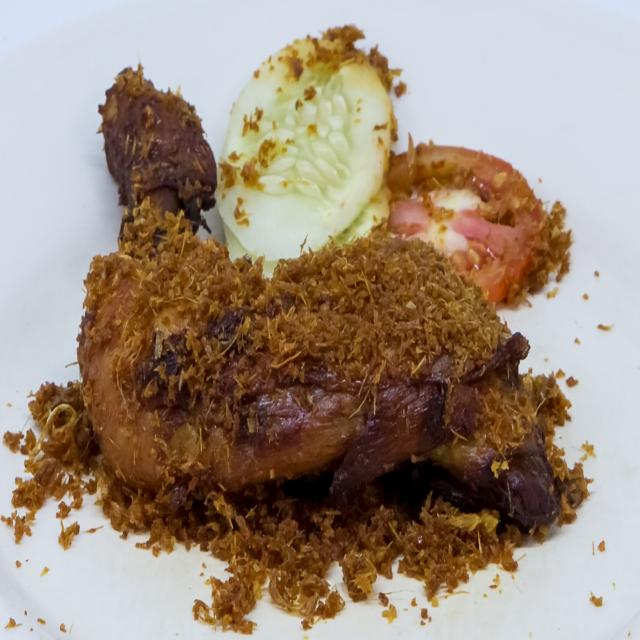Ayam-Goreng-Lengkuas: (53, 44, 581, 557)
